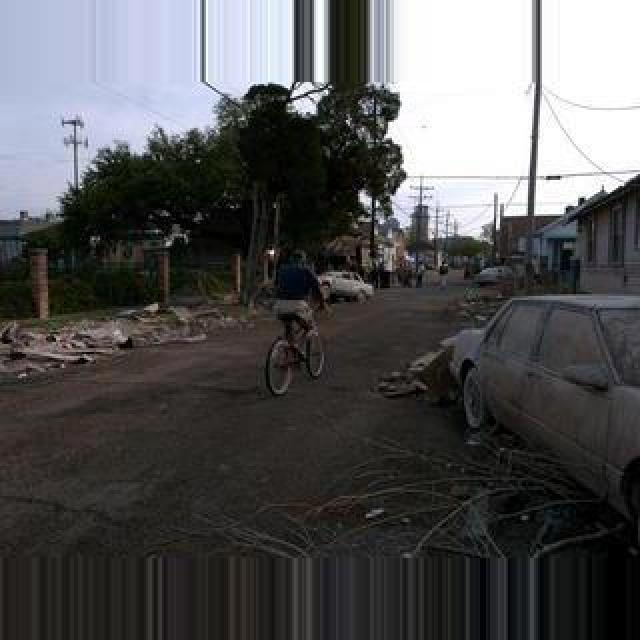Bus-Bike: (464, 290, 640, 520), (322, 272, 374, 304)
MC-Bike: (270, 256, 328, 378)
Person: (264, 308, 328, 396)
